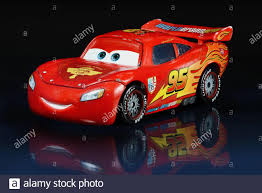mcqueen: (26, 18, 233, 128)
